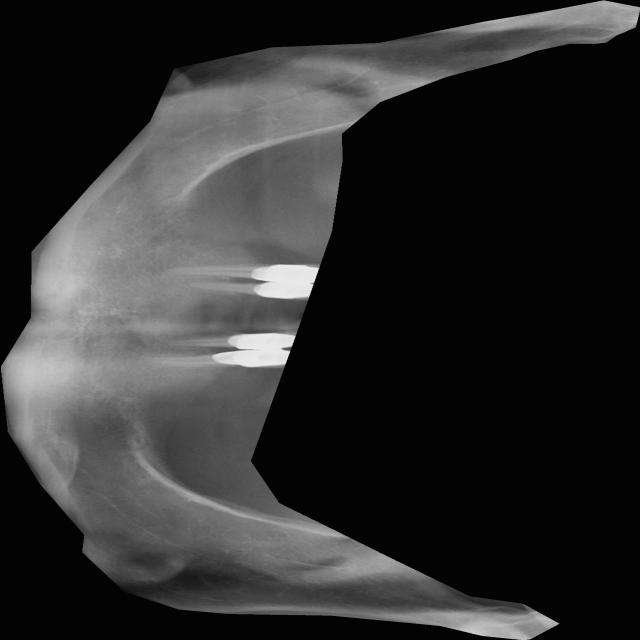mandibula: (0, 0, 640, 640)
